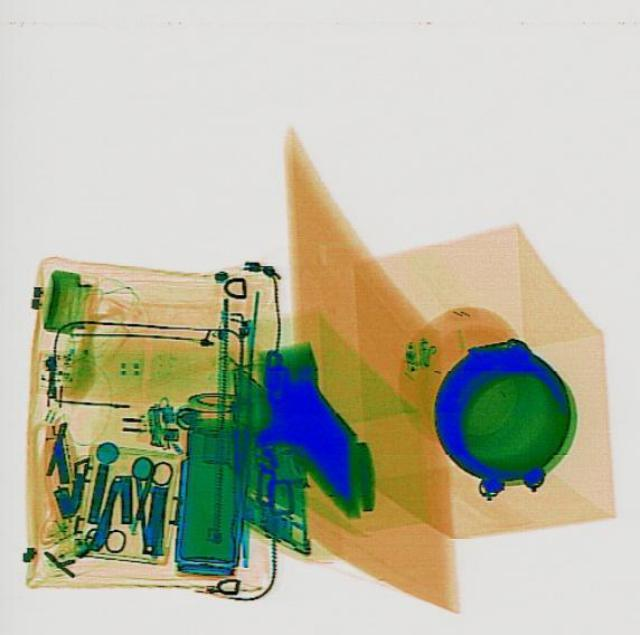Scissors: (110, 452, 174, 537), (83, 478, 131, 553)
